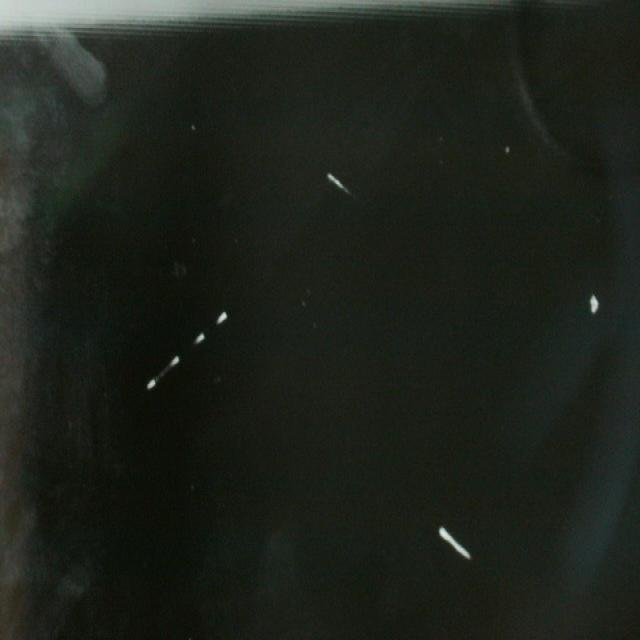scratch: (138, 305, 234, 395), (429, 513, 480, 567), (316, 164, 354, 204)
very small scratch: (584, 283, 604, 322)
